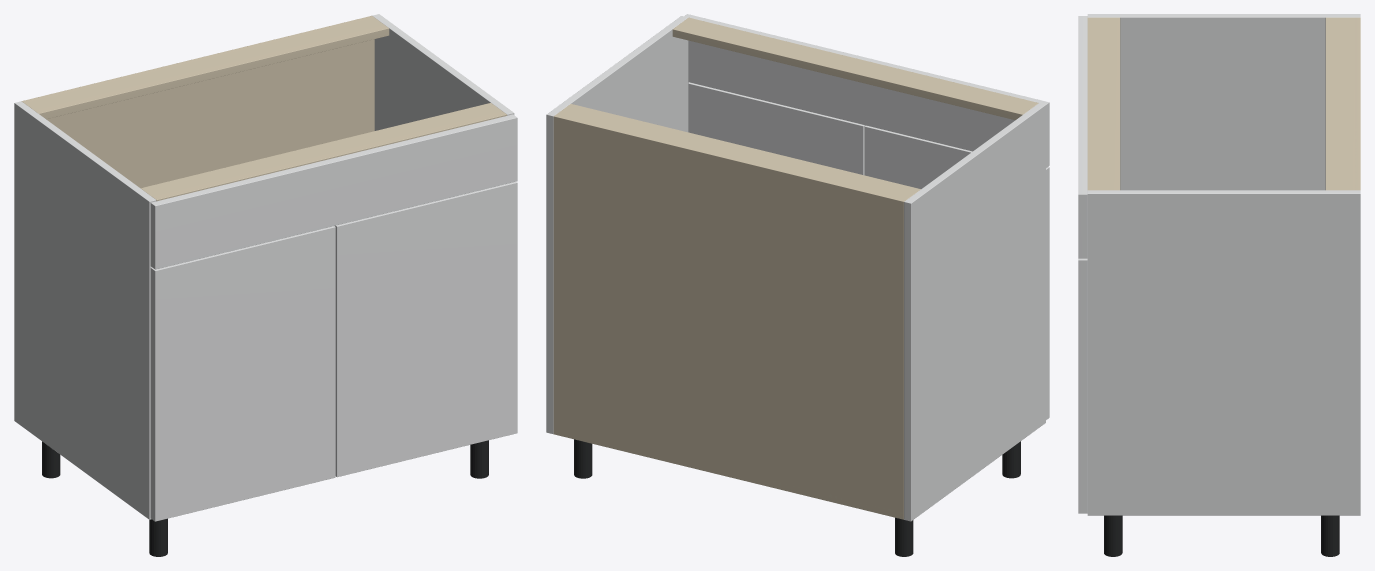
The model's file is oppein-ply-pgw-sb36.glb.
3 views of the same model, side by side, from view 1: azimuth 30°, elevation 25°; view 2: azimuth 150°, elevation 25°; view 3: azimuth 270°, elevation 25° (orthographic).
Visible parts, largest first — view 1: Door, Door.001, Cabinet side, Cabinet back, False drawer front, Top support rail, Cabinet side.001, Top support rail.001, Adjustable foot.001, Adjustable foot.003; view 2: Cabinet back, Cabinet side, False drawer front, Cabinet side.001, Door.001, Top support rail.001, Door, Top support rail, Adjustable foot, Adjustable foot.002; view 3: Cabinet side.001, Cabinet side, Top support rail.001, Top support rail, Door.001, False drawer front, Cabinet back, Adjustable foot.003, Adjustable foot.002.
Part boxes in pixels (x1,y1,x2,y2): Door: (150, 226, 335, 521); Door.001: (335, 181, 517, 477); Cabinet side: (14, 101, 156, 519); Cabinet back: (21, 15, 374, 188); False drawer front: (150, 114, 517, 269); Top support rail: (23, 17, 389, 119); Cabinet side.001: (372, 14, 514, 130); Top support rail.001: (141, 103, 506, 201); Adjustable foot.001: (149, 518, 167, 556); Adjustable foot.003: (470, 440, 488, 478); Cabinet back: (553, 114, 905, 519); Cabinet side: (904, 103, 1045, 521); False drawer front: (684, 14, 1049, 167); Cabinet side.001: (546, 16, 688, 434); Door.001: (688, 82, 865, 175); Top support rail.001: (672, 17, 1038, 120); Door: (864, 125, 1049, 419); Top support rail: (556, 104, 920, 199); Adjustable foot: (895, 517, 913, 556); Adjustable foot.002: (574, 439, 592, 478); Cabinet side.001: (1087, 190, 1360, 515); Cabinet side: (1087, 14, 1360, 190); Top support rail.001: (1087, 17, 1120, 190); Top support rail: (1325, 17, 1357, 190); Door.001: (1078, 258, 1087, 513); False drawer front: (1078, 16, 1087, 258); Cabinet back: (1355, 17, 1360, 190); Adjustable foot.003: (1104, 515, 1122, 556); Adjustable foot.002: (1321, 515, 1339, 556).
Size of the model in its own units: 0.9144 by 0.8763 by 0.6064.
